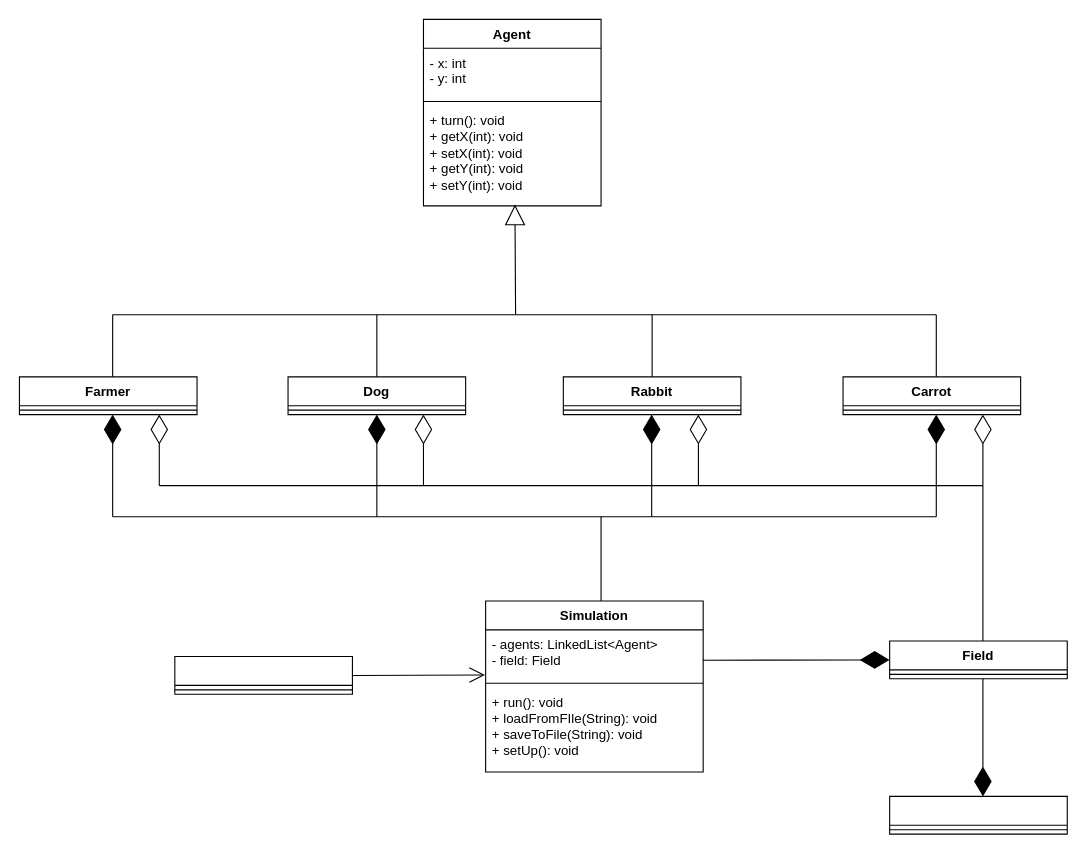
This 1087x854 diagram has some shape labels left out. The shapes that lost their labels are listed below. From the top down, each one's centre as x and y in pixels, then its label:
At point (263, 674): "SimulationRunner".
At point (978, 814): "Tile".
